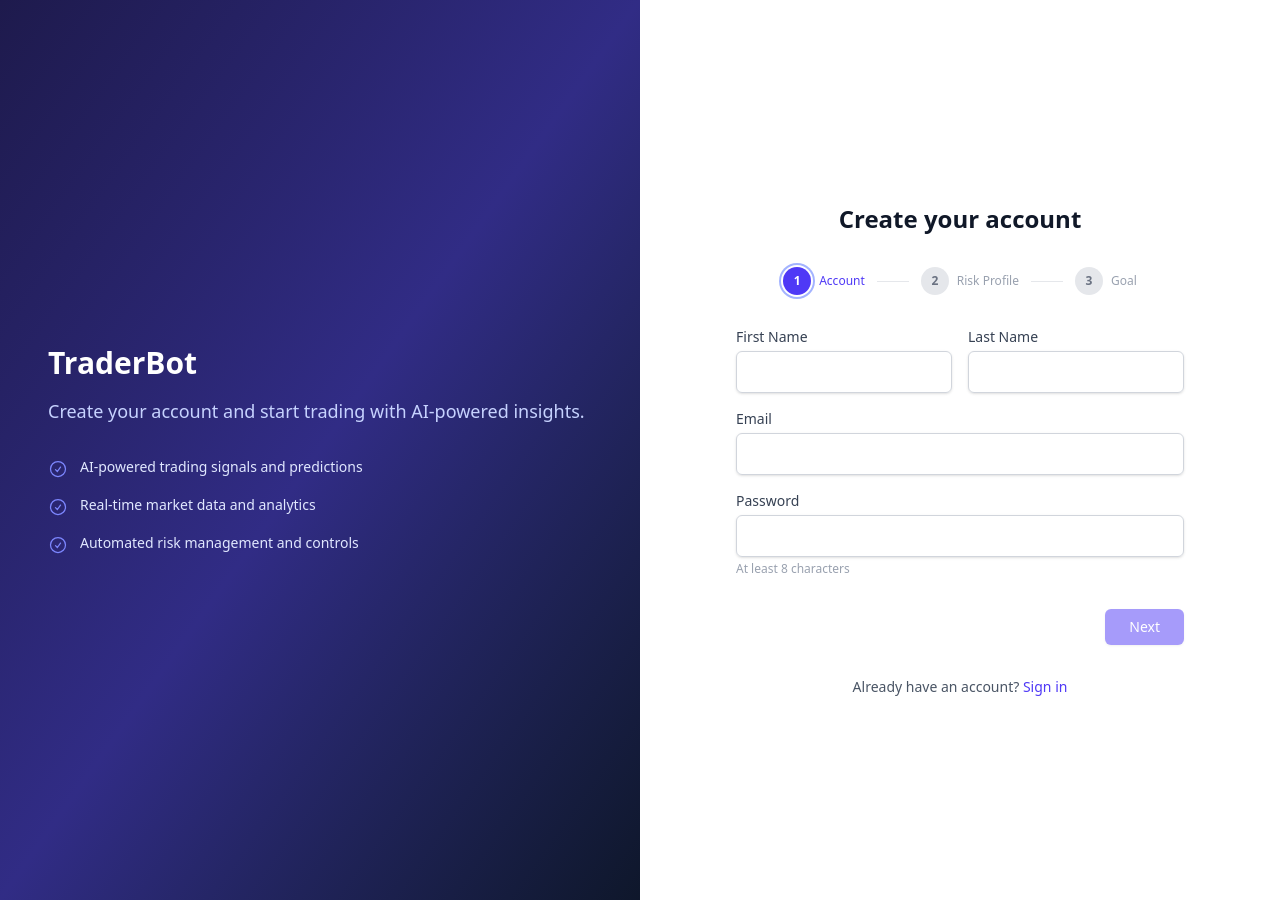
Scenario: RegisterPage › can go back from step 2
The width and height of the screenshot is (1280, 900).
Type "Test" into the field labelled "First Name". click: (844, 372)
box: [736,351,952,393]
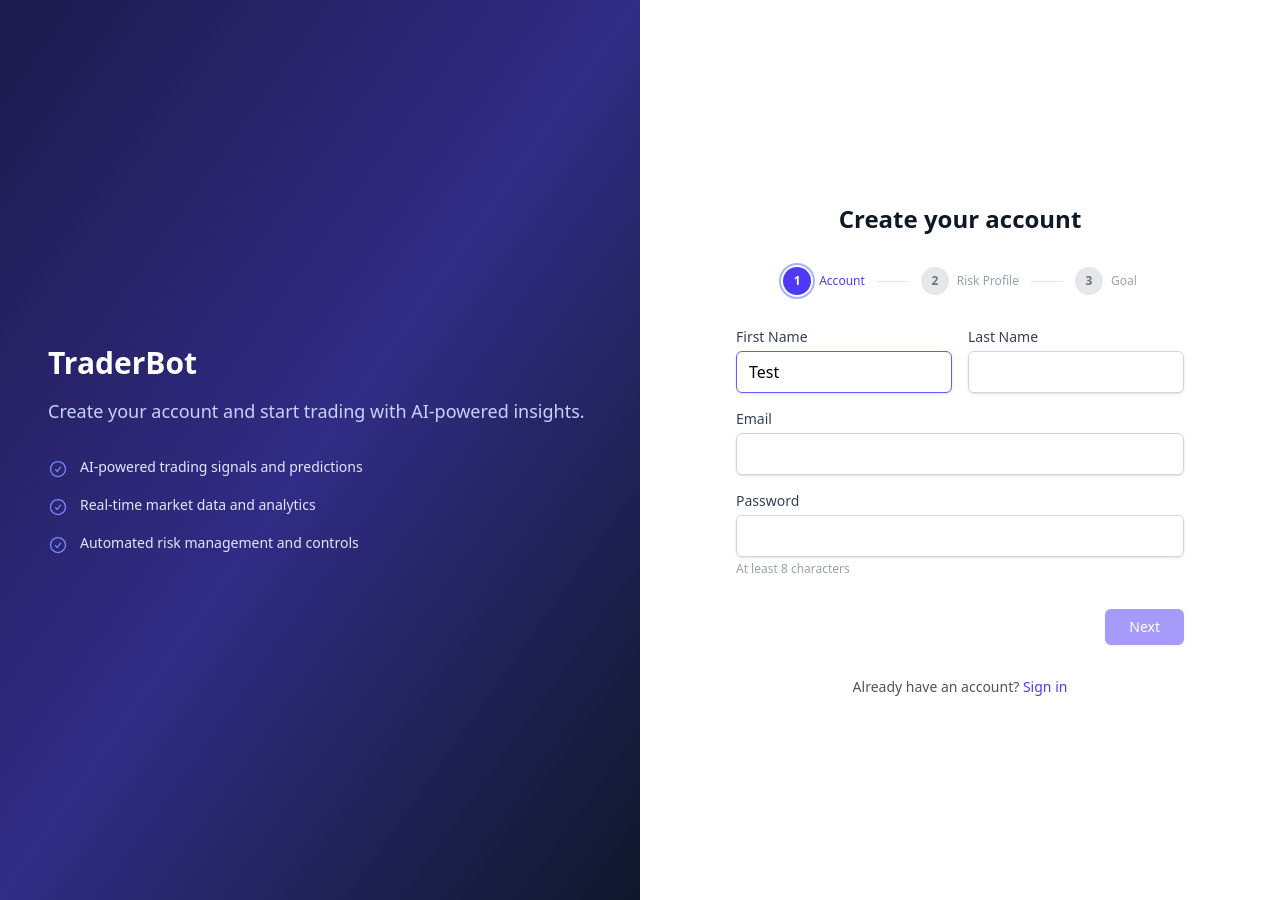
Type "User" into the field labelled "Last Name". click: (1076, 372)
box: [968,351,1184,393]
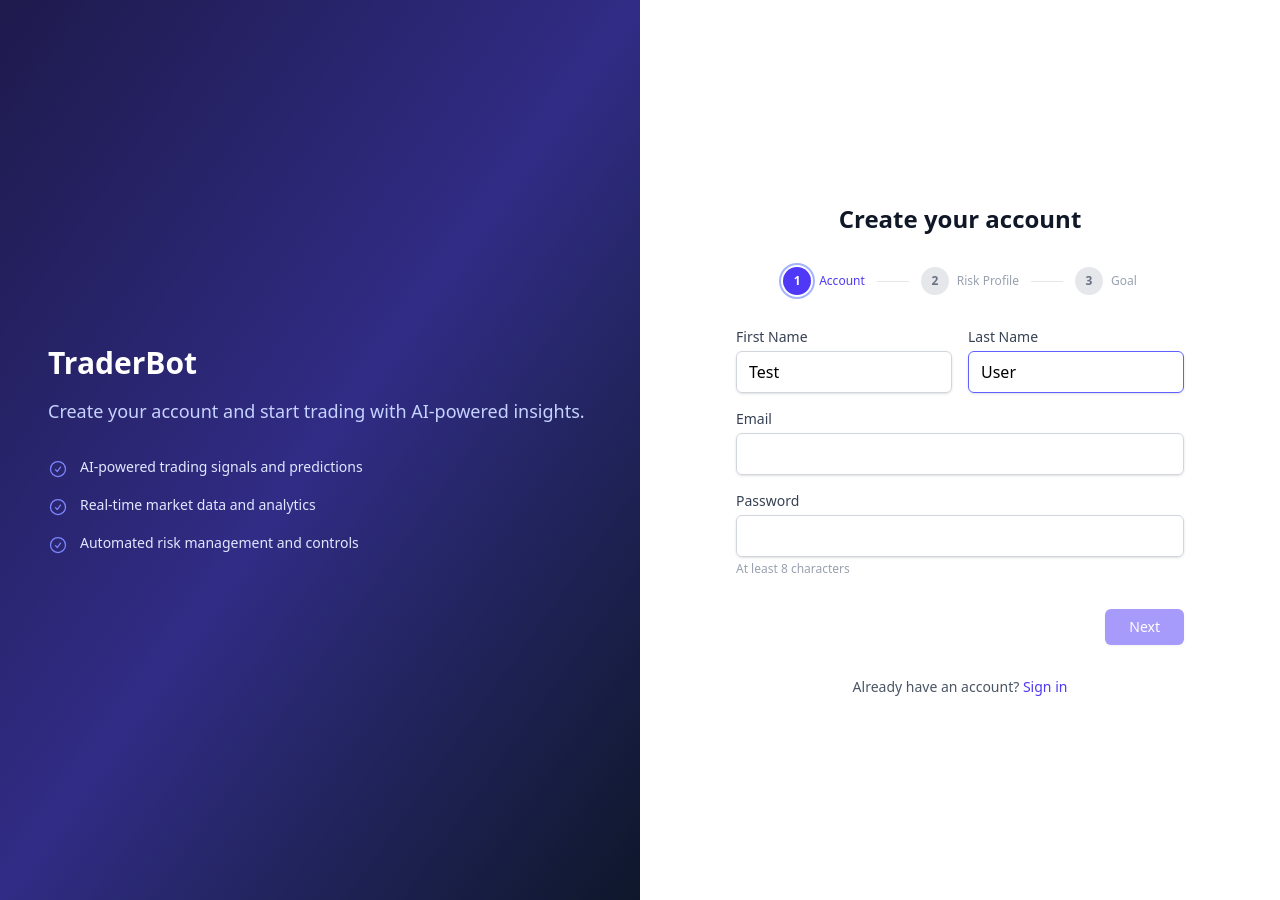
Type "test@example.com" into the field labelled "Email". click: (960, 454)
box: [736,433,1184,475]
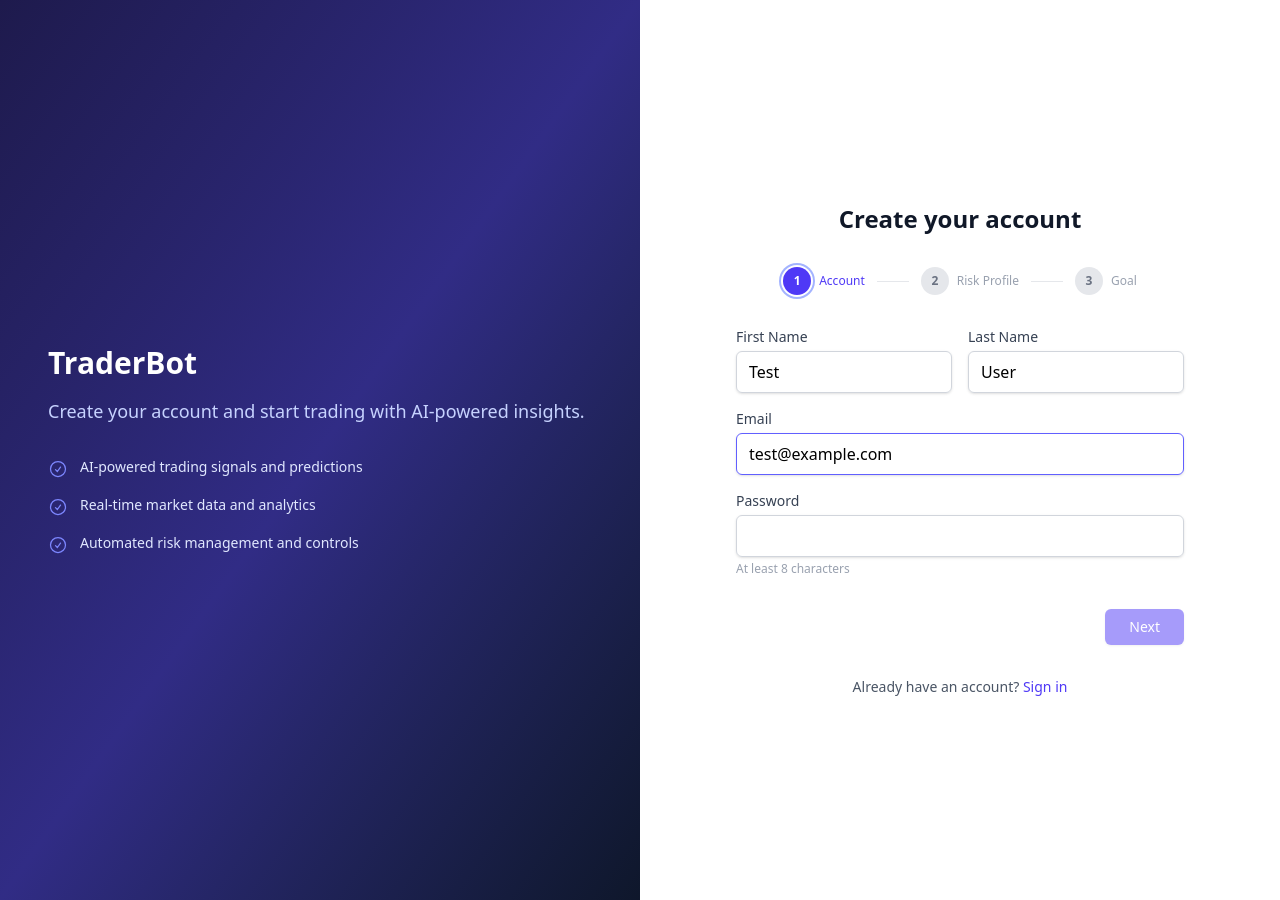
Type "password123" into the password field labelled "Password". click: (960, 536)
box: [736,515,1184,557]
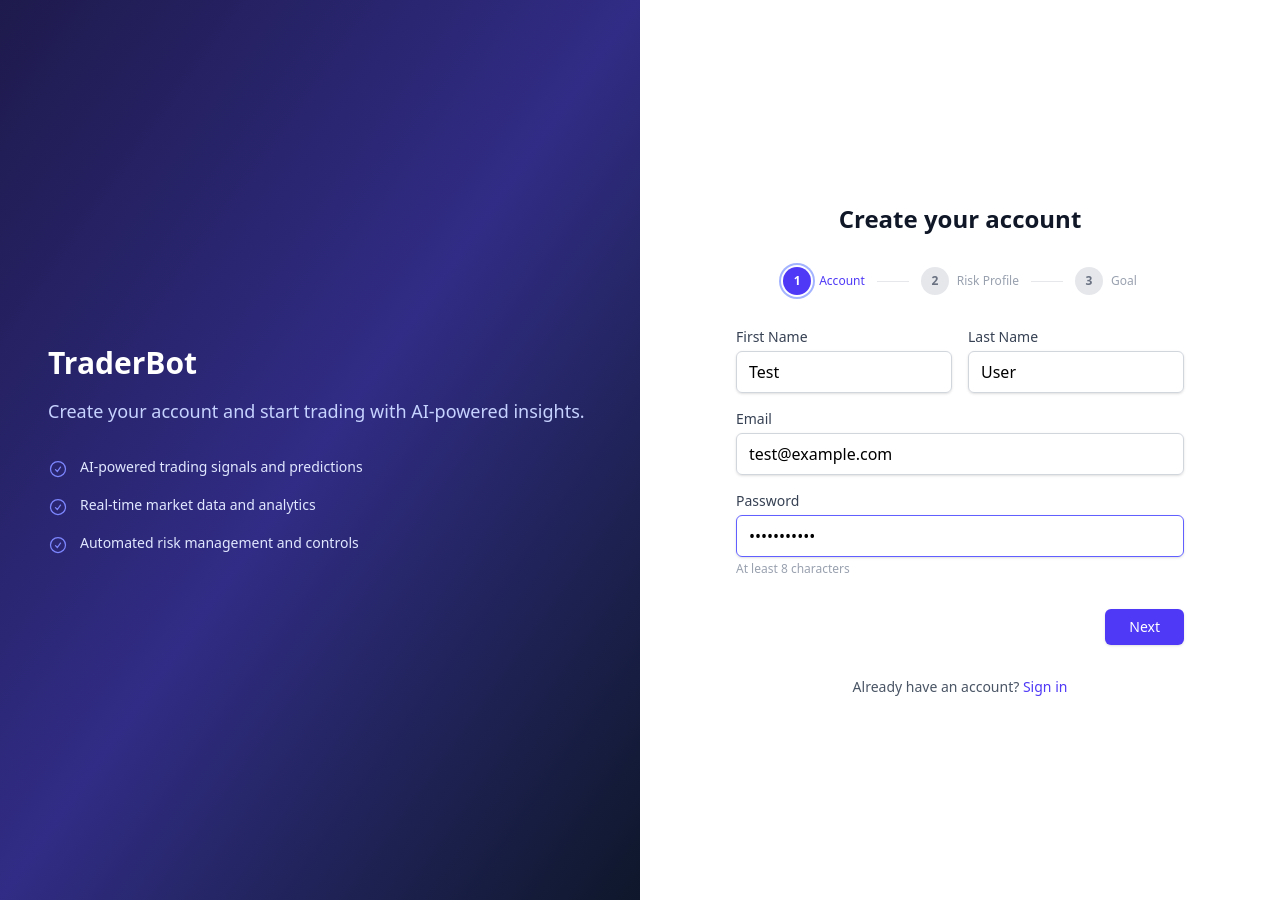
Click the button "Next". click: (1145, 627)
box: [1105,609,1184,645]
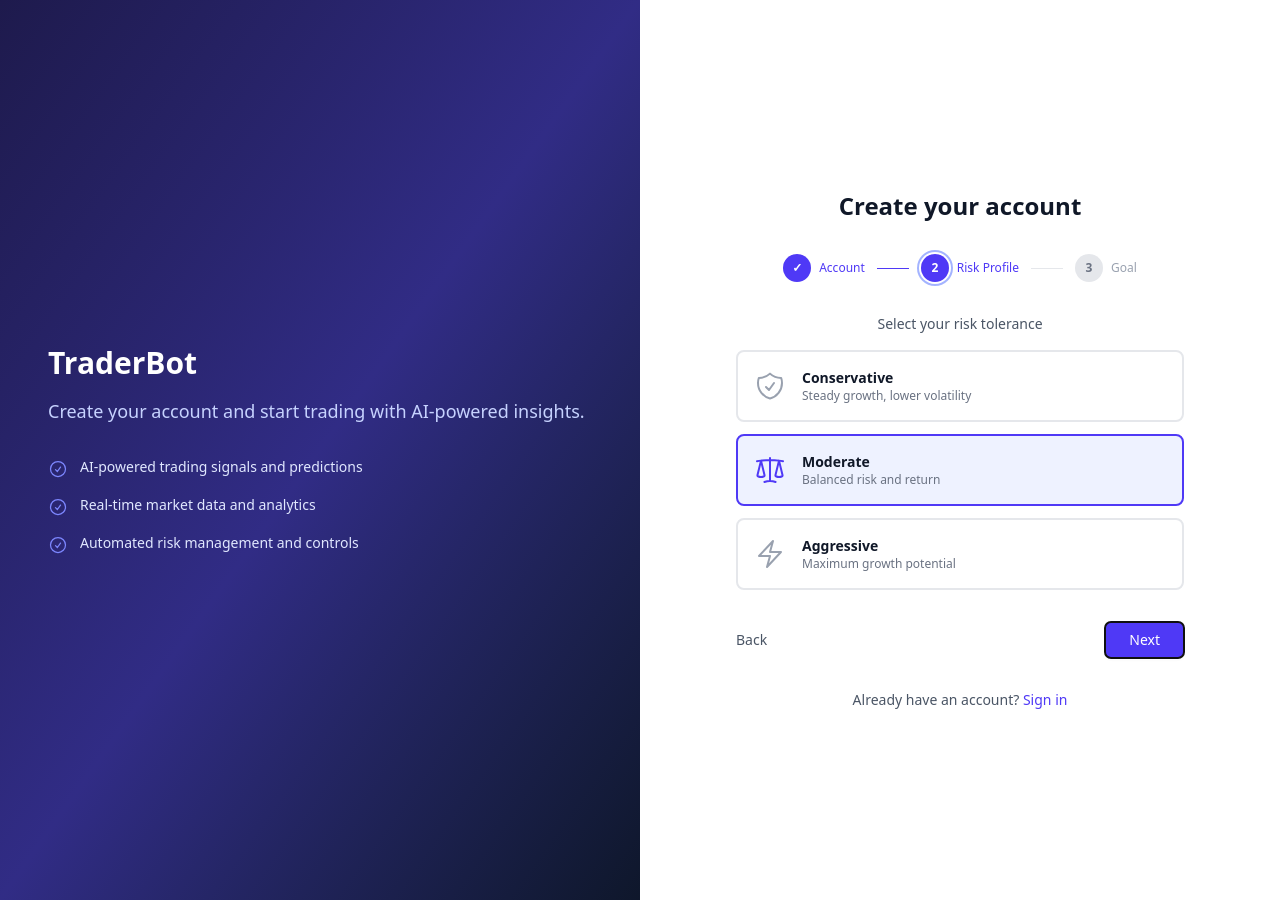
Expected: the text "Select your risk tolerance" is shown, [878,314,1043,333]
Click the button "Back". click: (752, 640)
box: [736,630,767,650]
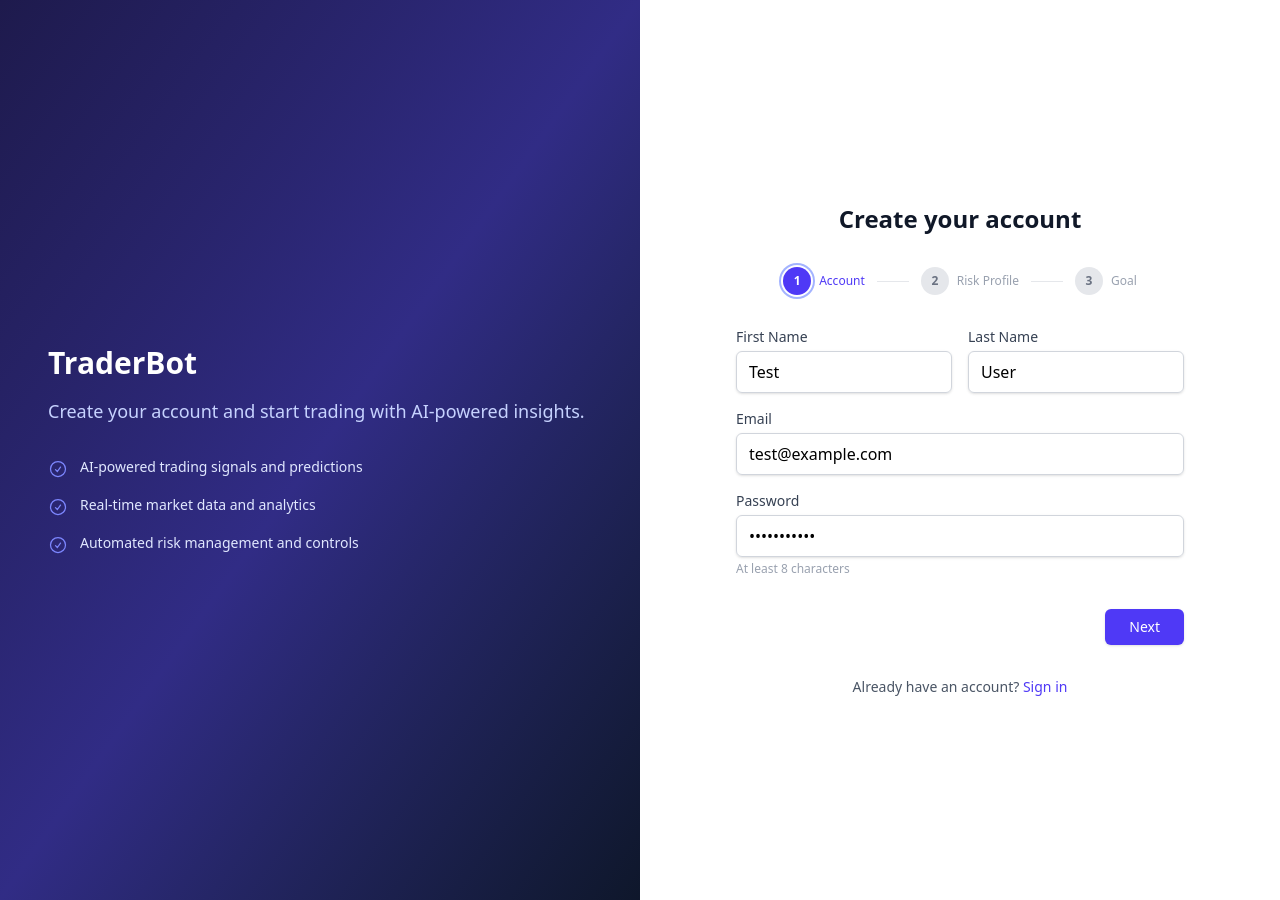
Expected: the field labelled "First Name" is shown, [736,351,952,393]
